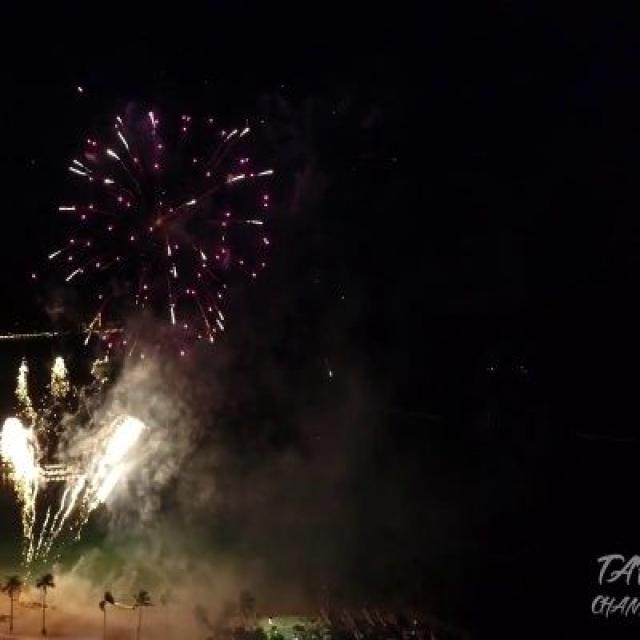Smoke: (240, 364, 410, 606), (130, 370, 227, 580)
